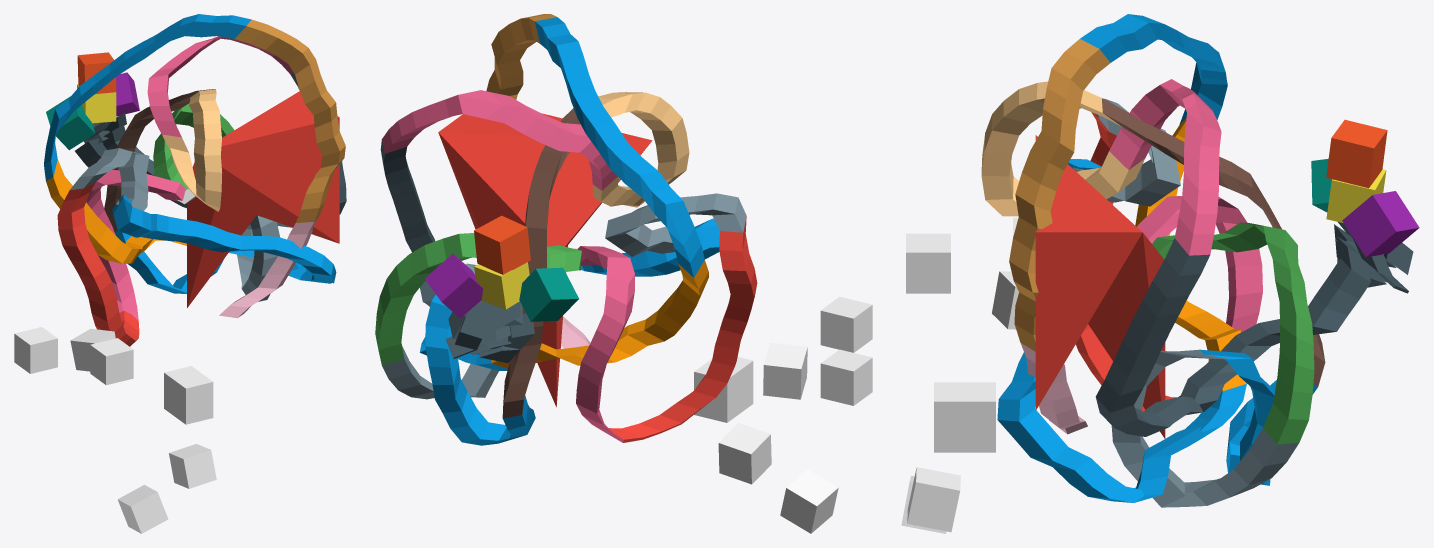
3 views of the same model, side by side, from view 1: azimuth 30°, elevation 25°; view 2: azimuth 150°, elevation 25°; view 3: azimuth 270°, elevation 25° (orthographic). The views are drawn at different scales.
Parts seen in each view (by area): view 1: group_1667933667, mesh_813507489, group_802304794, group_1107389540, mesh_960097519, mesh_974440623, mesh_531884192, mesh_550396047, mesh_1174234049, mesh_1663680292, mesh_720630363, mesh_922798532 (+3 smaller); view 2: group_802304794, group_1667933667, group_1107389540, mesh_813507489, mesh_922798532, mesh_550396047, mesh_531884192, mesh_1174234049, mesh_974440623, mesh_1663680292, mesh_720630363, mesh_960097519 (+4 smaller); view 3: group_802304794, group_1667933667, mesh_813507489, group_1107389540, mesh_960097519, mesh_1496384746, mesh_922798532, mesh_550396047, mesh_974440623, mesh_568105584, mesh_720630363, mesh_1663680292.
Part boxes in pixels (left/top/right/bottom): group_1667933667: left=44, top=14, right=345, bottom=318; mesh_813507489: left=187, top=91, right=339, bottom=307; group_802304794: left=101, top=36, right=346, bottom=301; group_1107389540: left=57, top=148, right=185, bottom=346; mesh_960097519: left=164, top=366, right=213, bottom=424; mesh_974440623: left=90, top=338, right=133, bottom=385; mesh_531884192: left=14, top=327, right=57, bottom=373; mesh_550396047: left=169, top=444, right=216, bottom=488; mesh_1174234049: left=117, top=485, right=168, bottom=533; mesh_1663680292: left=46, top=96, right=95, bottom=150; mesh_720630363: left=70, top=328, right=115, bottom=371; mesh_922798532: left=77, top=52, right=116, bottom=94; group_802304794: left=375, top=90, right=689, bottom=445; group_1667933667: left=419, top=14, right=719, bottom=370; group_1107389540: left=576, top=193, right=757, bottom=442; mesh_813507489: left=438, top=113, right=652, bottom=407; mesh_922798532: left=474, top=215, right=530, bottom=274; mesh_550396047: left=718, top=423, right=771, bottom=484; mesh_531884192: left=820, top=349, right=872, bottom=405; mesh_1174234049: left=780, top=469, right=838, bottom=533; mesh_974440623: left=820, top=296, right=872, bottom=352; mesh_1663680292: left=519, top=267, right=578, bottom=321; mesh_720630363: left=763, top=342, right=807, bottom=399; mesh_960097519: left=694, top=357, right=753, bottom=422; group_802304794: left=981, top=79, right=1370, bottom=507; group_1667933667: left=997, top=14, right=1246, bottom=502; mesh_813507489: left=1035, top=135, right=1165, bottom=438; group_1107389540: left=1073, top=98, right=1262, bottom=411; mesh_960097519: left=934, top=382, right=995, bottom=452; mesh_1496384746: left=1342, top=191, right=1419, bottom=257; mesh_922798532: left=1326, top=119, right=1387, bottom=188; mesh_550396047: left=907, top=467, right=960, bottom=532; mesh_974440623: left=906, top=233, right=950, bottom=293; mesh_568105584: left=1326, top=169, right=1386, bottom=222; mesh_720630363: left=992, top=271, right=1018, bottom=329; mesh_1663680292: left=1311, top=158, right=1331, bottom=212.
Bounding box in the file's own units: 103 × 119 × 91.89.
